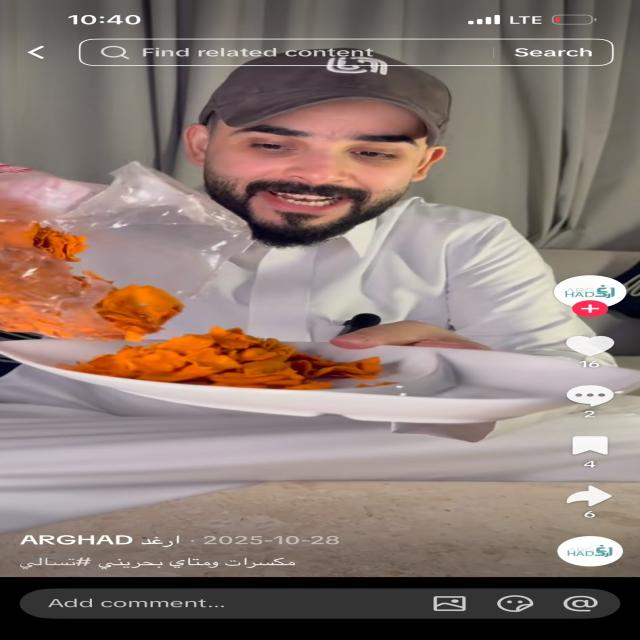Mattai: (0, 203, 413, 402)
